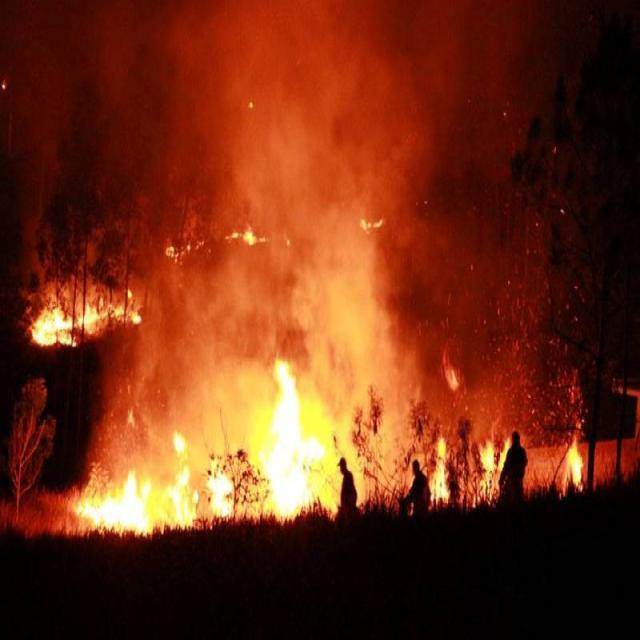Fire: (259, 369, 315, 516), (80, 472, 166, 536)
Smoke: (225, 34, 378, 260)
